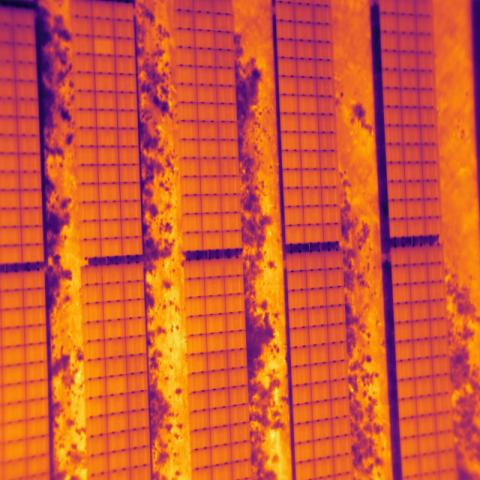fault: (92, 37, 112, 54)
